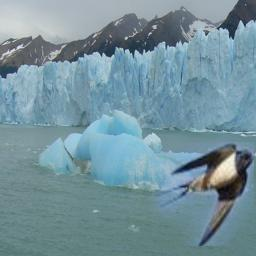Swallow: (151, 142, 254, 246)
